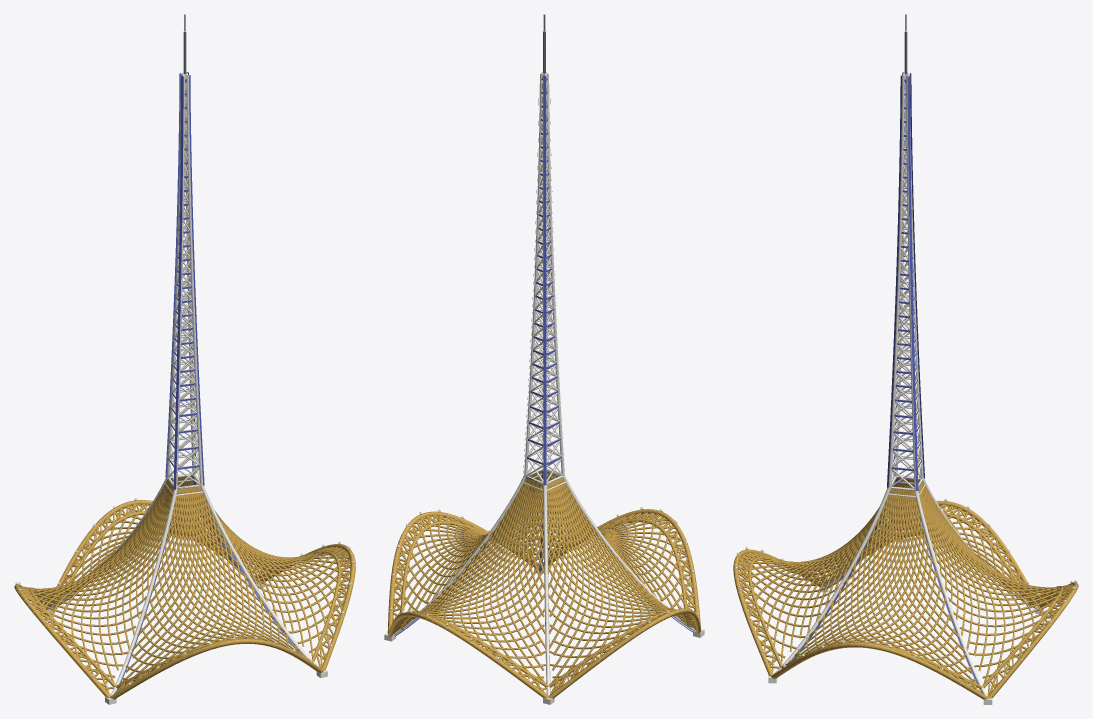
File: melbourne-arts-centre-spire.detail.glb
3 renders of one model, left to right at view 1: azimuth 30°, elevation 25°; view 2: azimuth 150°, elevation 25°; view 3: azimuth 270°, elevation 25°, orthographic.
Parts seen in each view (by area): view 1: Arts Centre Melbourne Spire; view 2: Arts Centre Melbourne Spire; view 3: Arts Centre Melbourne Spire.
Boxes of the visible parts, box(x1,y1,x2,y2) form: Arts Centre Melbourne Spire: box(14, 14, 355, 704); Arts Centre Melbourne Spire: box(384, 14, 704, 704); Arts Centre Melbourne Spire: box(733, 14, 1078, 704).
Size of the model in its own units: 72.7 by 147 by 72.7.
